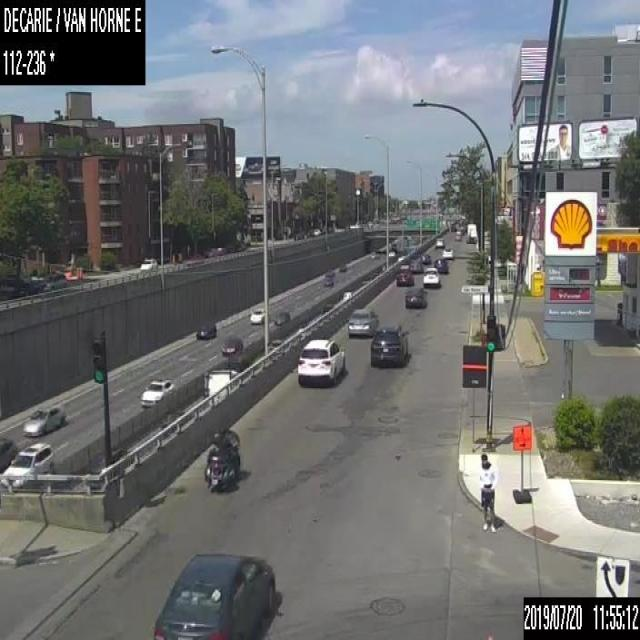construction: (510, 422, 532, 502), (75, 266, 79, 279), (79, 266, 82, 279)
pedestrian: (478, 452, 497, 532)
vehicle: (152, 548, 276, 639), (1, 442, 55, 492), (296, 336, 344, 385), (204, 426, 240, 491), (370, 325, 409, 367), (21, 404, 66, 436), (204, 367, 241, 397), (139, 377, 173, 407), (347, 308, 378, 337), (0, 435, 17, 473), (39, 272, 67, 290), (404, 285, 426, 307), (195, 318, 218, 338), (220, 334, 242, 354), (394, 264, 414, 284), (422, 266, 440, 287), (271, 308, 290, 325), (249, 305, 266, 323), (464, 221, 476, 243), (139, 256, 157, 269), (434, 257, 447, 272), (322, 271, 334, 286), (409, 257, 421, 272), (442, 247, 453, 258), (420, 253, 430, 264), (434, 237, 444, 247), (342, 289, 351, 300), (338, 264, 347, 272), (312, 228, 320, 235), (388, 249, 396, 256), (454, 233, 461, 240), (456, 228, 463, 234)
